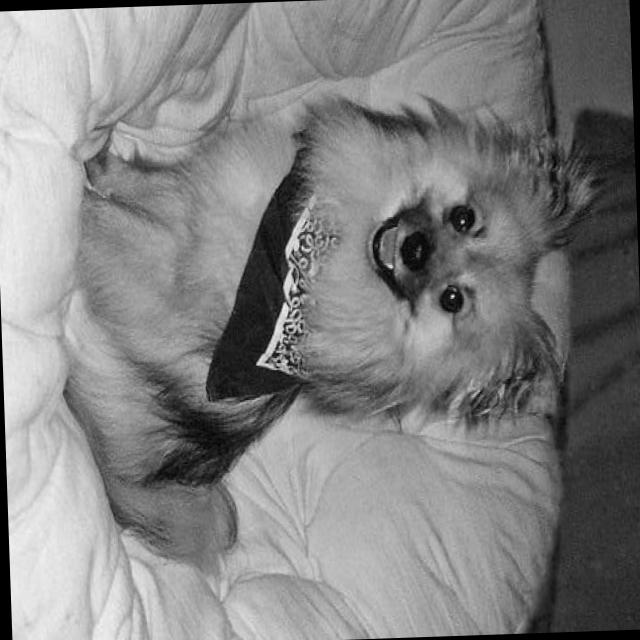sitting: (52, 76, 602, 576)
